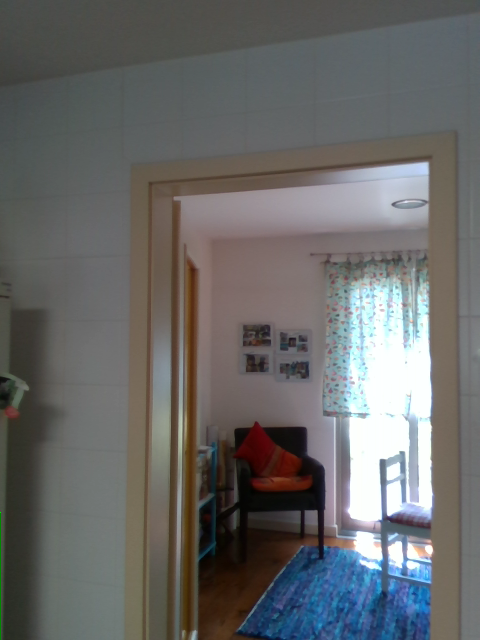open: (122, 132, 459, 639)
